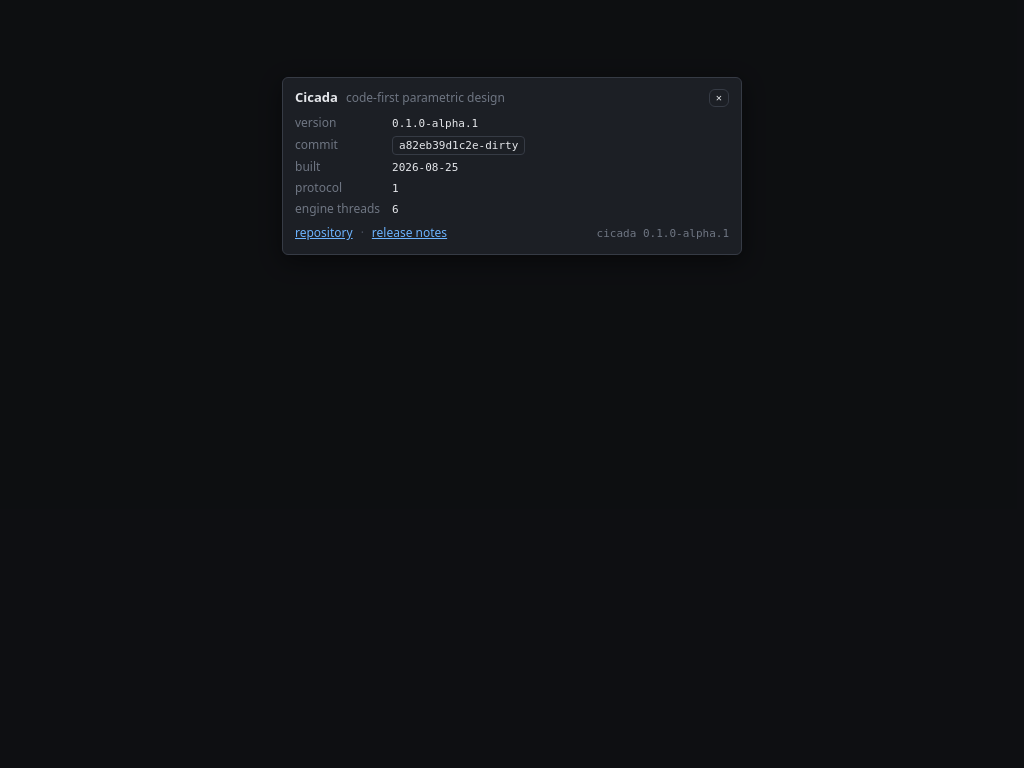
Test: the About dialog › a click on the commit copies it and says so; a refused clipboard says why
The width and height of the screenshot is (1024, 768).
Click the button with test id "about-commit". click: (459, 145)
box: [392,136,525,155]
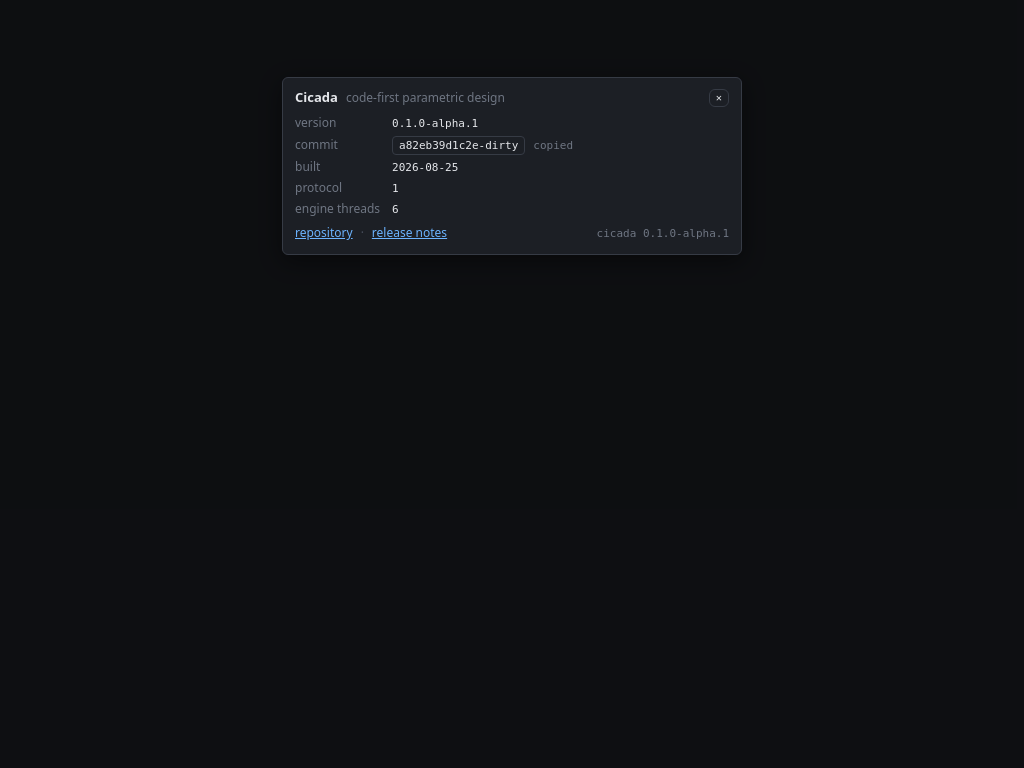
Now the message with test id "about-copied" reads "copied", box [533,139,573,152]
Click the button with test id "about-commit". click: (459, 145)
box: [392,136,525,155]
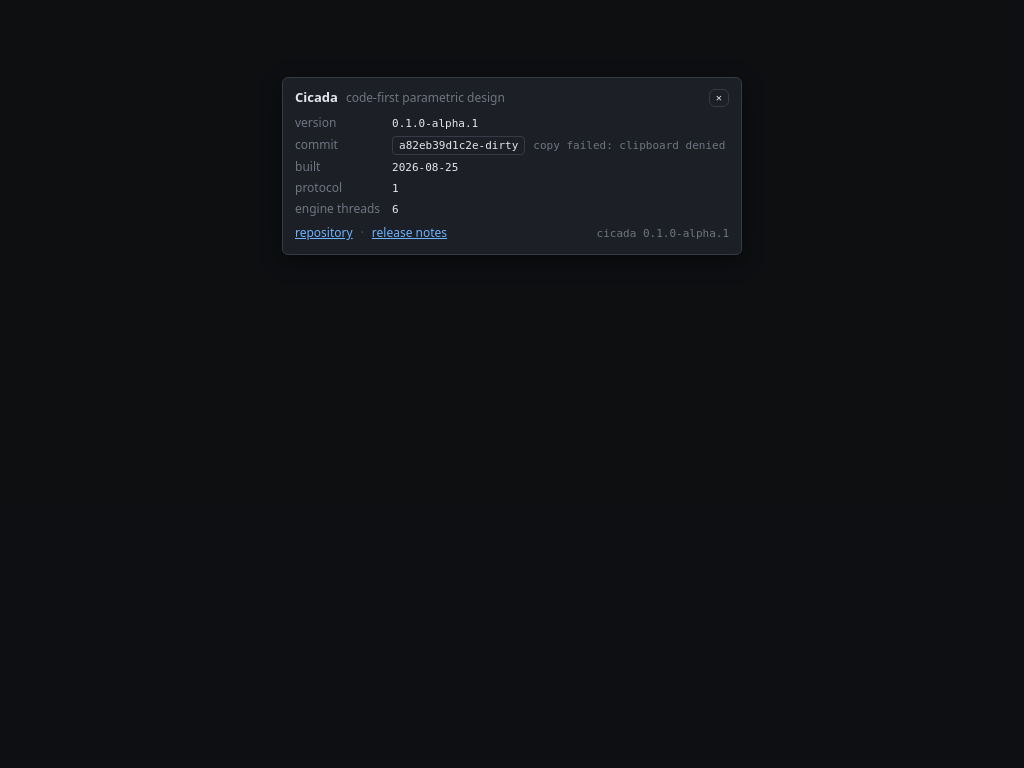
Now the message with test id "about-copied" reads "copy failed: clipboard denied", box [533,139,725,152]
